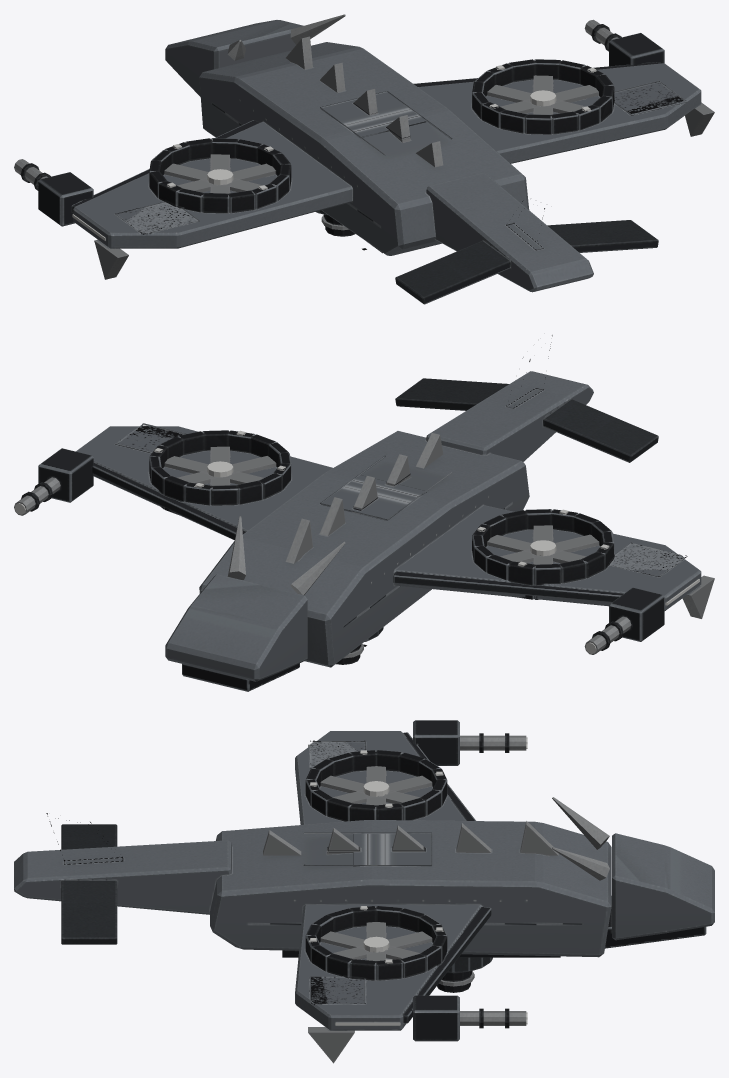
File: chs_dragon.fbx
The picture shows the model from 3 angles, top to bottom: view 1: azimuth 30°, elevation 25°; view 2: azimuth 150°, elevation 25°; view 3: azimuth 270°, elevation 25°; orthographic projection.
Parts seen in each view (by area): view 1: base_bar, laser_l_bar, fanL_bar, fanR_bar, laser_r_bar; view 2: base_bar, laser_l_bar, laser_r_bar, fanL_bar, fanR_bar; view 3: base_bar, laser_r_bar, laser_l_bar, fanL_bar, fanR_bar, flame_bar.
Part boxes in pixels (left/top/right/bottom): base_bar: left=71, top=14, right=714, bottom=304; laser_l_bar: left=14, top=159, right=93, bottom=226; fanL_bar: left=164, top=154, right=276, bottom=193; fanR_bar: left=487, top=75, right=598, bottom=114; laser_r_bar: left=584, top=19, right=664, bottom=66; base_bar: left=76, top=335, right=714, bottom=691; laser_l_bar: left=584, top=587, right=664, bottom=654; laser_r_bar: left=14, top=448, right=93, bottom=515; fanL_bar: left=487, top=525, right=599, bottom=564; fanR_bar: left=164, top=446, right=276, bottom=485; base_bar: left=14, top=731, right=714, bottom=1063; laser_r_bar: left=413, top=995, right=526, bottom=1041; laser_l_bar: left=413, top=720, right=526, bottom=765; fanL_bar: left=320, top=766, right=432, bottom=805; fanR_bar: left=320, top=922, right=432, bottom=960; flame_bar: left=437, top=971, right=474, bottom=992.
Size of the model in its own units: 3220 by 900 by 3272.
2 materials, 2 textured.
